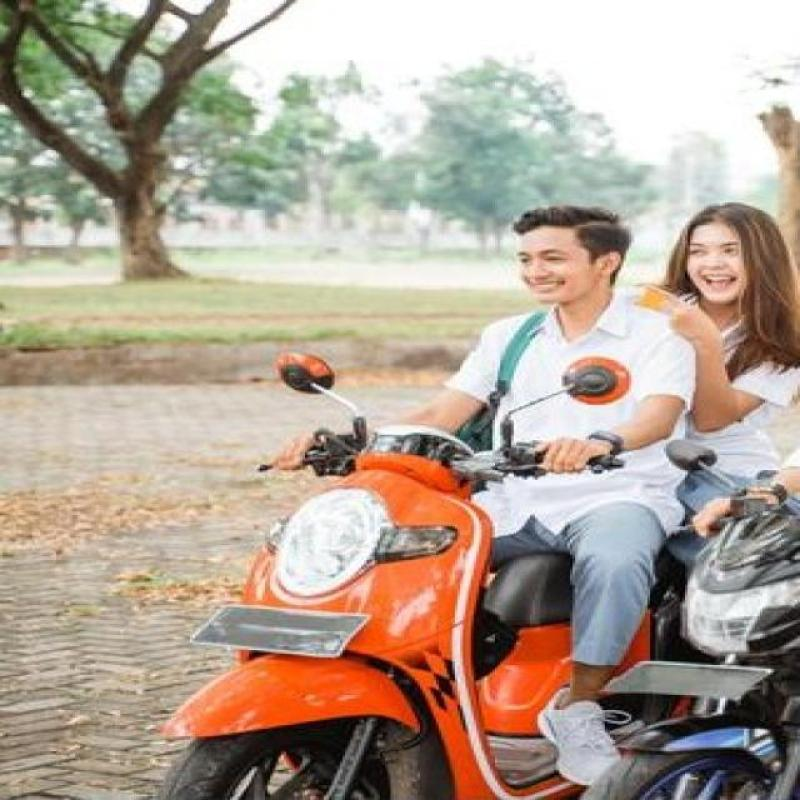nohelmet: (485, 199, 639, 307), (668, 199, 782, 330)
